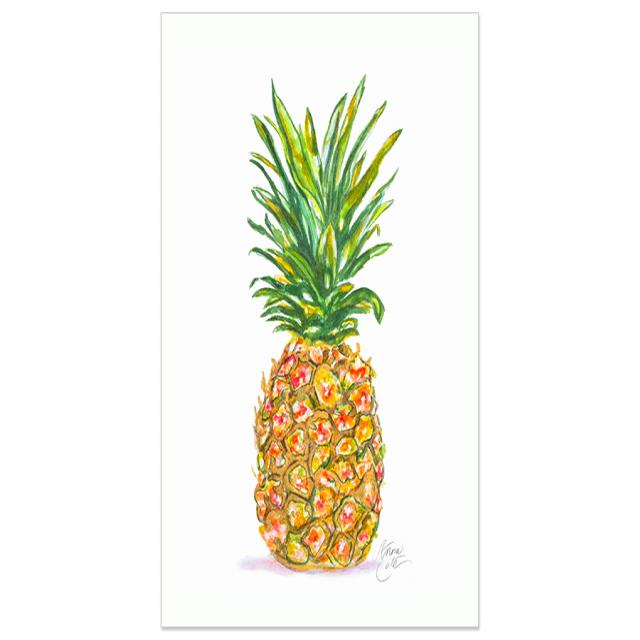Pineapple: (247, 249, 387, 561)
